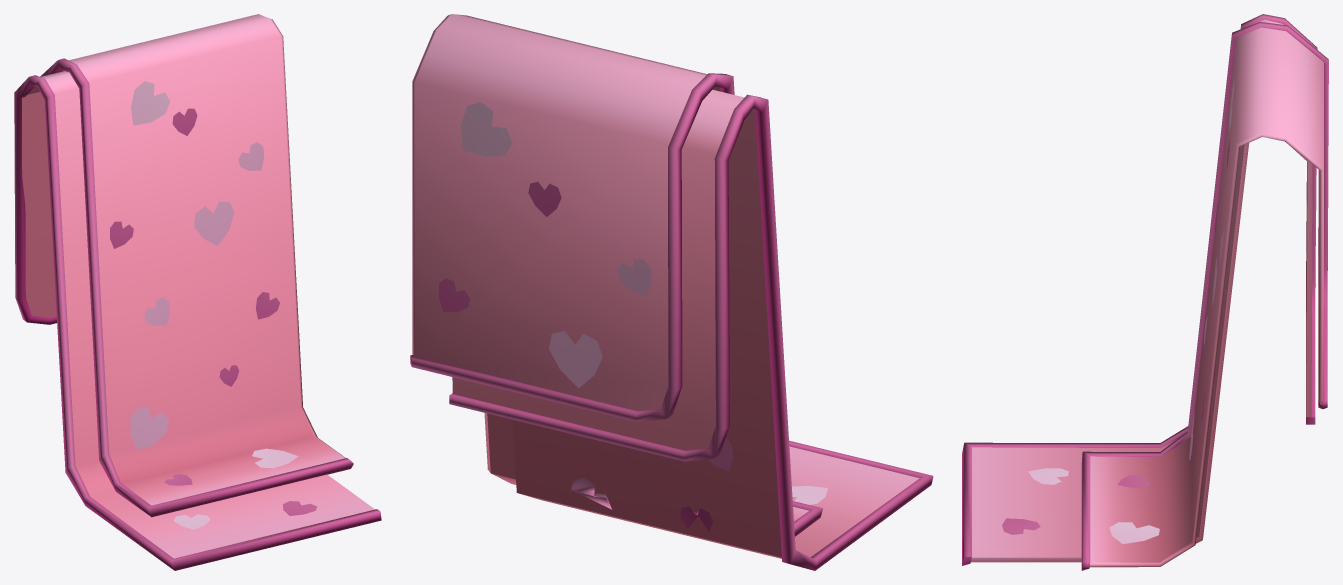
The model's file is CR_Blanket.FBX.
3 renders of one model, left to right at view 1: azimuth 30°, elevation 25°; view 2: azimuth 150°, elevation 25°; view 3: azimuth 270°, elevation 25°, orthographic. The views are drawn at different scales.
Visible parts, largest first — view 1: CR_Blanket; view 2: CR_Blanket; view 3: CR_Blanket.
Part boxes in pixels (box(x1,y1,x2,y2)): CR_Blanket: box(14, 14, 381, 570); CR_Blanket: box(410, 14, 933, 570); CR_Blanket: box(962, 14, 1328, 570).
Bounding box in the file's own units: 24.62 × 40.04 × 29.76.
